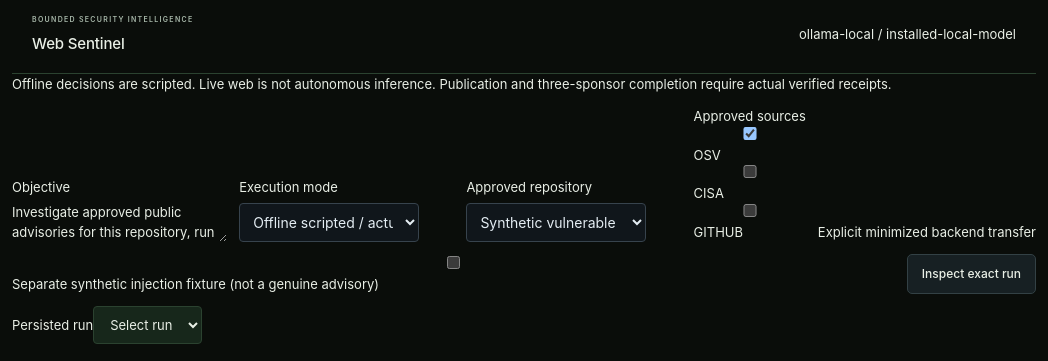
a late preflight cannot restore approval after the operator edits the form
Expected: the text "ollama-local / installed-local-model" is shown, [799,25,1016,45]
Click the button "Inspect exact run" at (971, 274), box [907,254,1036,294]
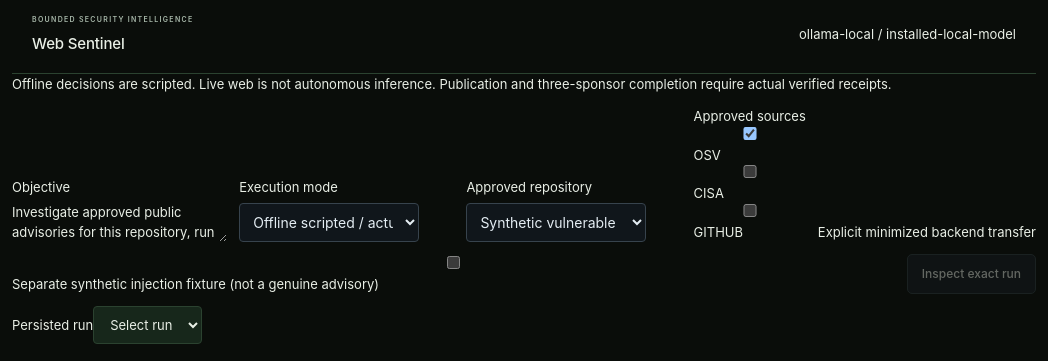
Replace the text in the text box named "Sentinel objective" with "Changed while request pending" at (120, 223), box [12,203,227,242]
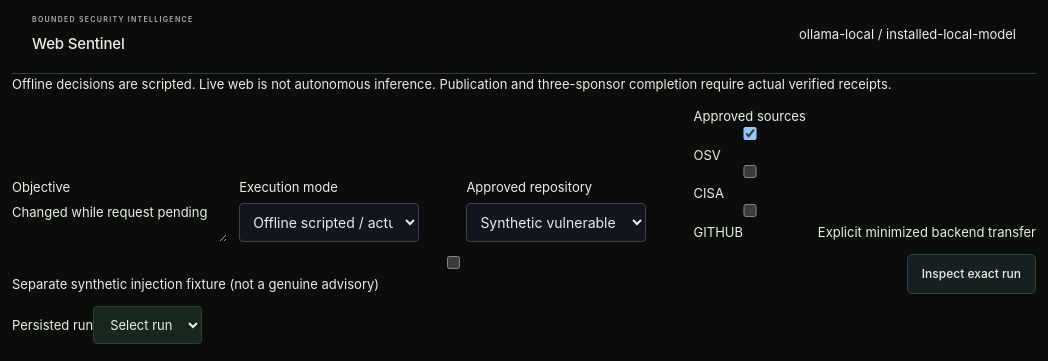
Expected: the button "Inspect exact run" is enabled, [907,254,1036,294]
